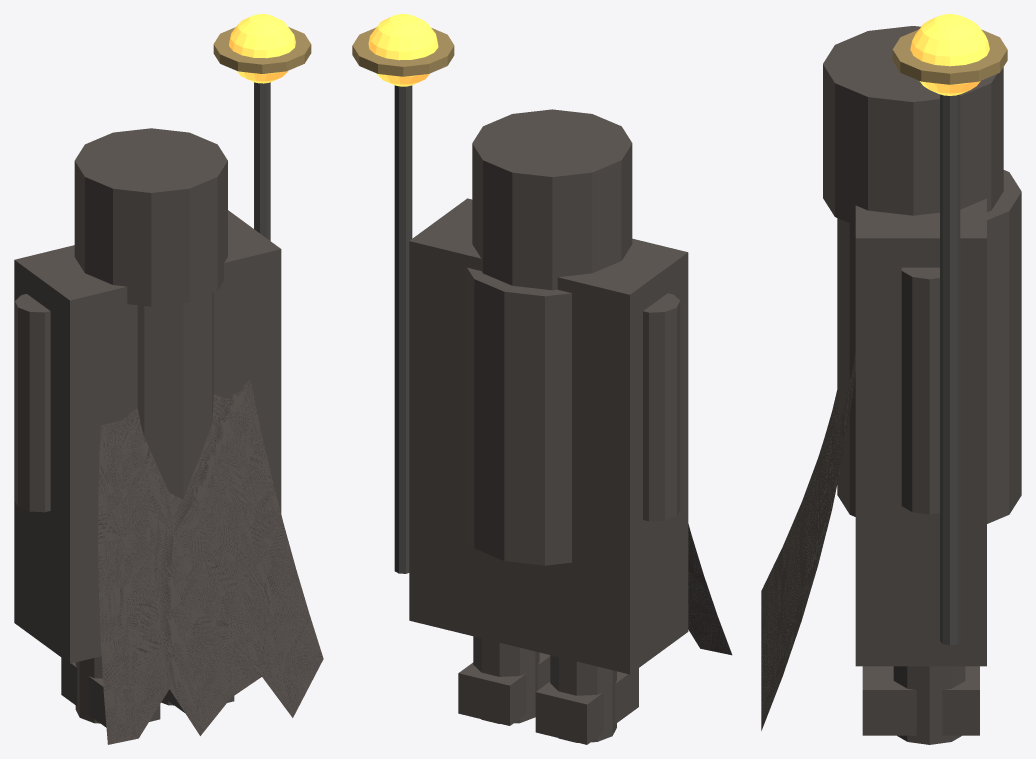
Rendered from cinder_priest.glb.
3 renders of one model, left to right at view 1: azimuth 30°, elevation 25°; view 2: azimuth 150°, elevation 25°; view 3: azimuth 270°, elevation 25°, orthographic. The views are drawn at different scales.
Parts seen in each view (by area): view 1: cinder_priest; view 2: cinder_priest; view 3: cinder_priest.
Boxes of the visible parts, box(x1,y1,x2,y2) form: cinder_priest: box(14, 14, 323, 744); cinder_priest: box(352, 14, 732, 744); cinder_priest: box(761, 14, 1021, 744).
Size of the model in its own units: 0.9782 by 2.05 by 0.6344.
